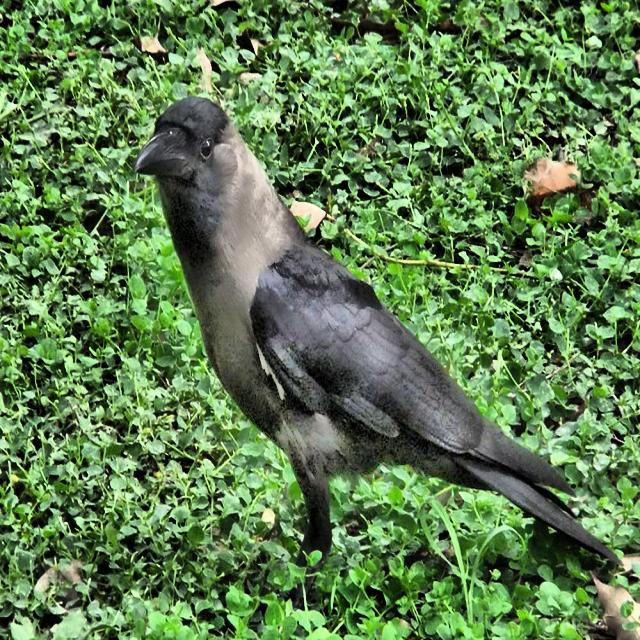crow: (139, 75, 632, 606)
